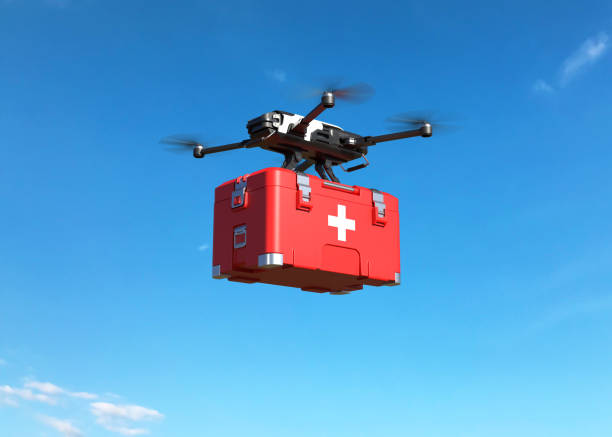Drone: (134, 80, 456, 181)
